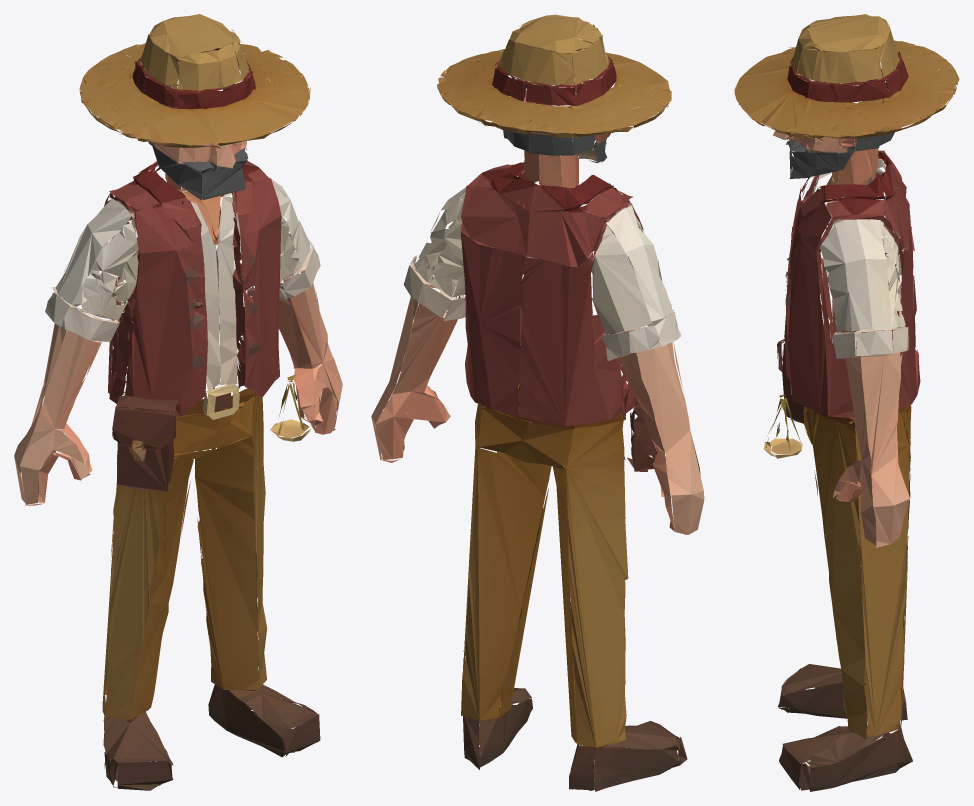
File: habitant.glb
3 renders of one model, left to right at view 1: azimuth 30°, elevation 25°; view 2: azimuth 150°, elevation 25°; view 3: azimuth 270°, elevation 25°, orthographic.
Visible parts, largest first — view 1: world; view 2: world; view 3: world.
Boxes of the visible parts, x1,y1,x2,y2 form: world: (14, 14, 342, 790); world: (371, 14, 704, 791); world: (734, 14, 959, 791).
Bounding box in the file's own units: 0.4701 × 1 × 0.285.
1 material, 1 textured.
